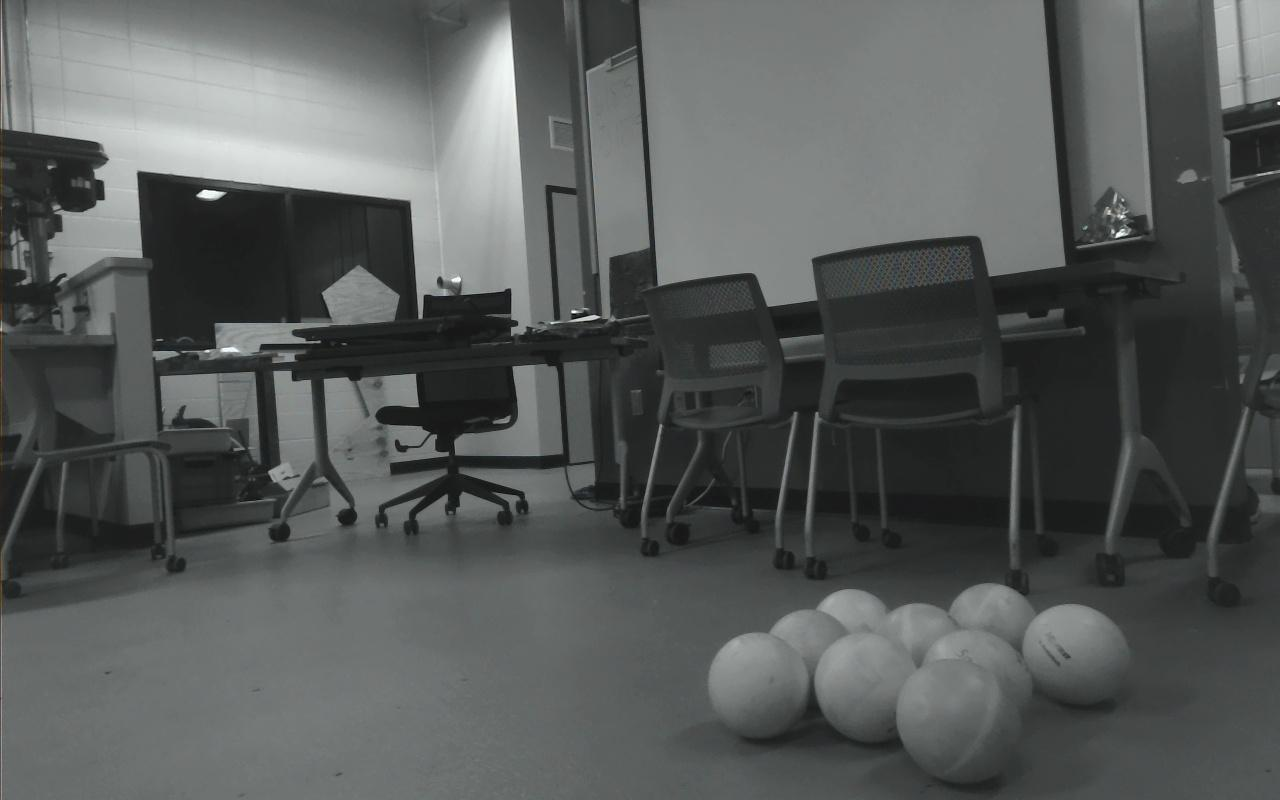Fuel: (895, 658, 1021, 785), (814, 632, 919, 743), (1021, 604, 1130, 706), (708, 632, 809, 739), (919, 629, 1033, 722), (765, 609, 852, 703), (945, 583, 1038, 666), (873, 603, 963, 684), (812, 589, 892, 663)
